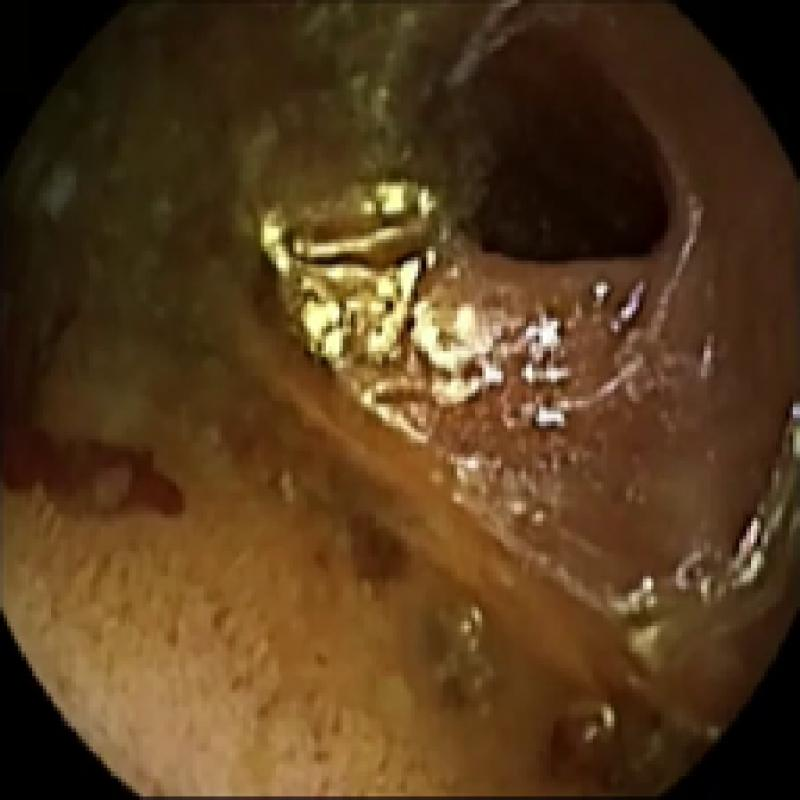bleeding: (0, 286, 186, 514), (538, 709, 602, 781)
